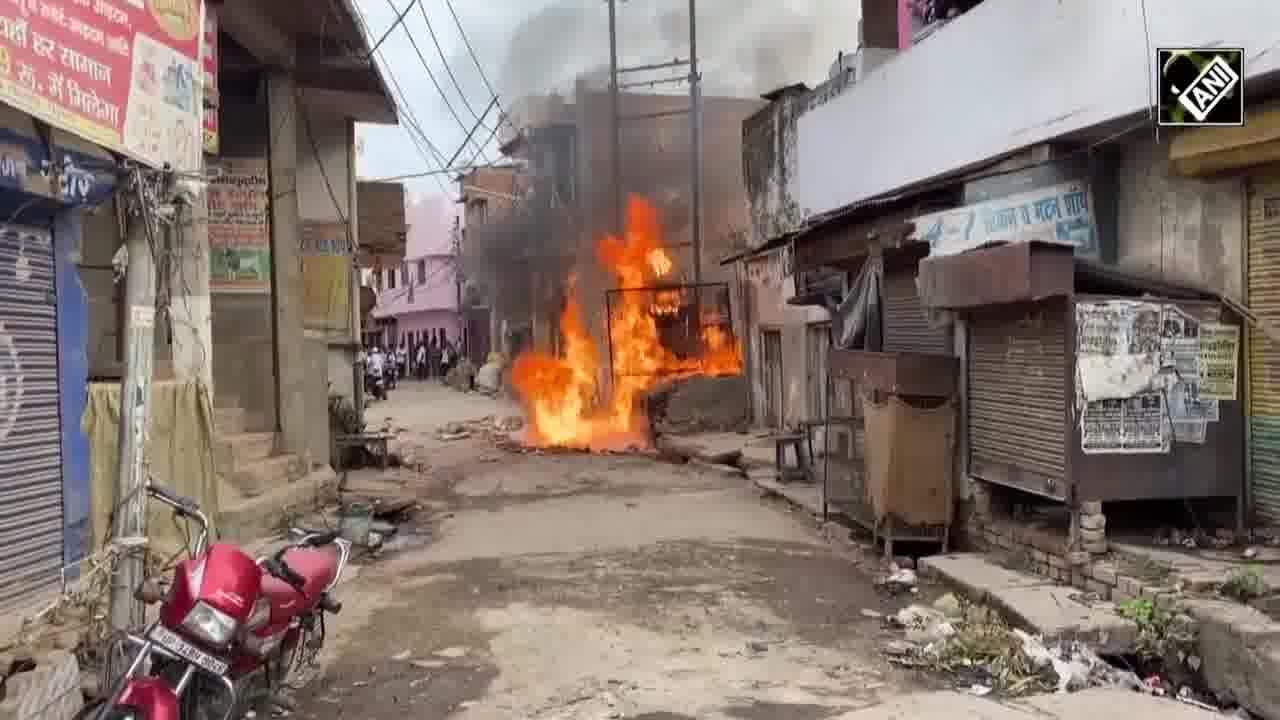fire: (480, 226, 733, 445)
